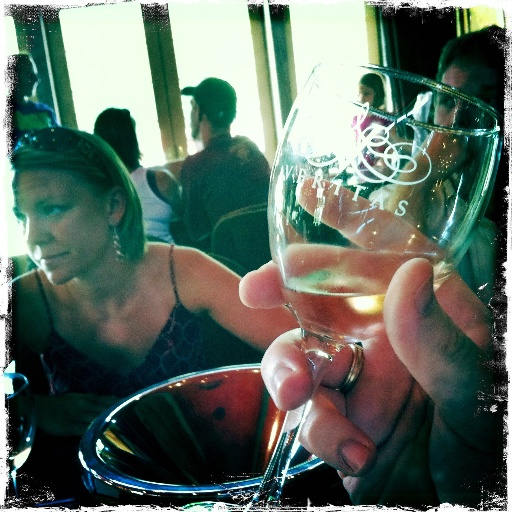hand: (238, 175, 506, 510)
